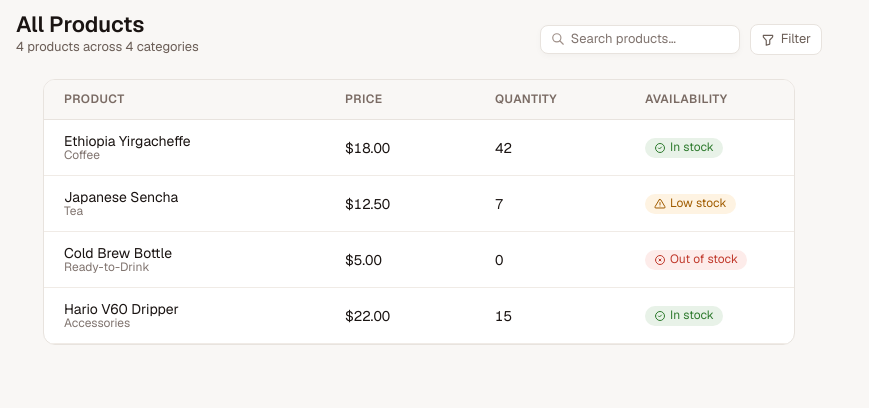
Test: Products › filter panel behavior › closes the filter dropdown when the filter button is clicked again while it's open on desktop screens
Click the button with aria-label "filter products": (786, 40) [750,24,822,55]
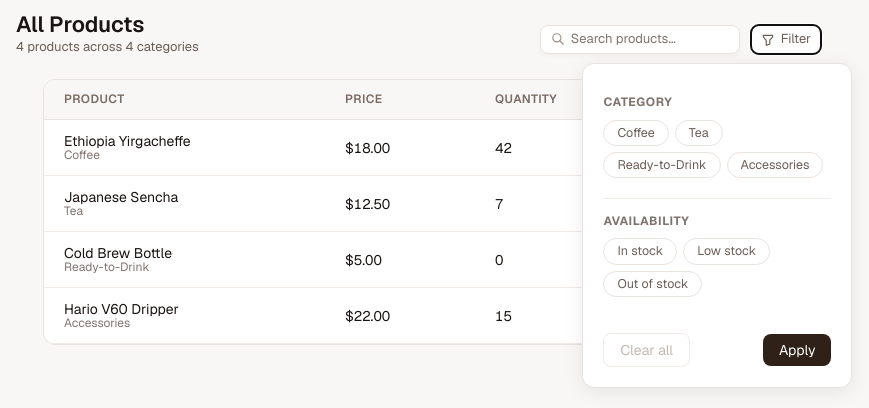
Expected: the element with test id "filter-dropdown" is shown, [582,63,852,388]
Click the button with aria-label "filter products": (786, 40) [750,24,822,55]
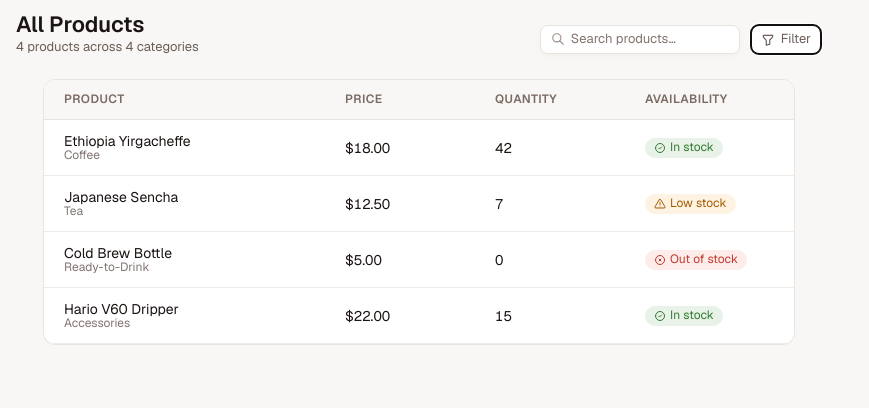
Expected: the element with test id "filter-dropdown" is gone
